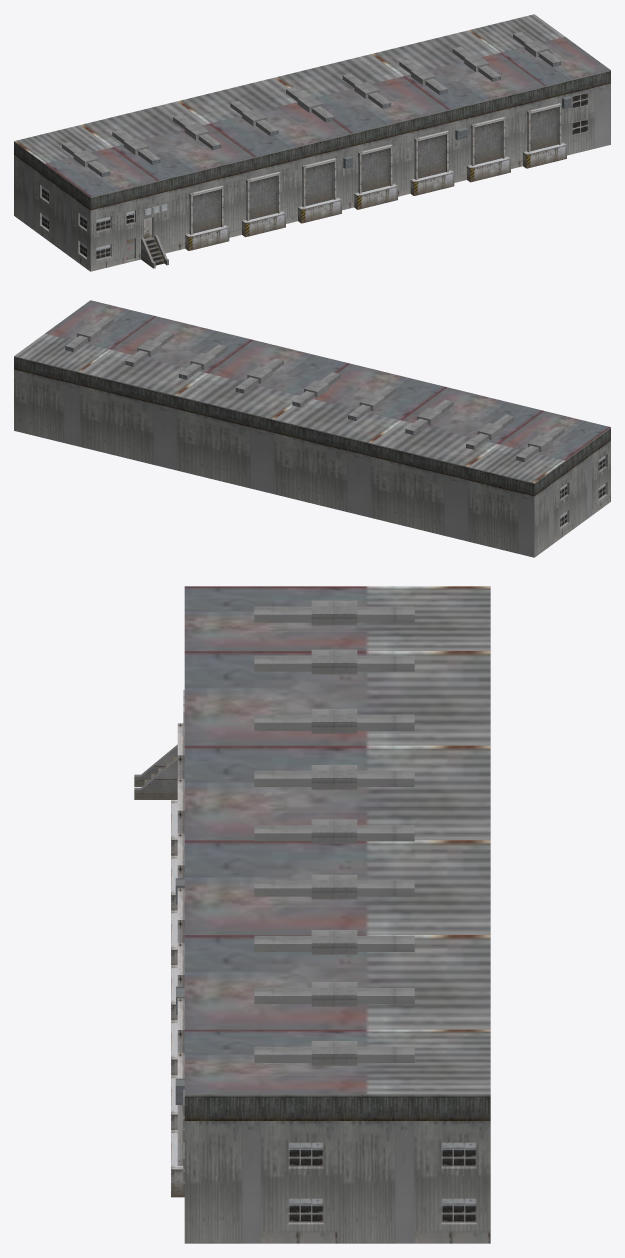
The model's file is ind-terminal.lod1.glb.
3 renders of one model, top to bottom at view 1: azimuth 30°, elevation 25°; view 2: azimuth 150°, elevation 25°; view 3: azimuth 270°, elevation 25°, orthographic. The views are drawn at different scales.
Visible parts, largest first — view 1: Industrial_LogisticTerminal_1_Industrial_Walls_FLR_1_0, Industrial_LogisticTerminal_1_Industrial_Trim_FLR_1_0; view 2: Industrial_LogisticTerminal_1_Industrial_Walls_FLR_1_0, Industrial_LogisticTerminal_1_Industrial_Trim_FLR_1_0; view 3: Industrial_LogisticTerminal_1_Industrial_Walls_FLR_1_0, Industrial_LogisticTerminal_1_Industrial_Trim_FLR_1_0.
Boxes of the visible parts, left/top/right/bottom form: Industrial_LogisticTerminal_1_Industrial_Walls_FLR_1_0: left=14, top=14, right=610, bottom=271; Industrial_LogisticTerminal_1_Industrial_Trim_FLR_1_0: left=42, top=32, right=588, bottom=268; Industrial_LogisticTerminal_1_Industrial_Walls_FLR_1_0: left=14, top=300, right=610, bottom=557; Industrial_LogisticTerminal_1_Industrial_Trim_FLR_1_0: left=65, top=316, right=605, bottom=526; Industrial_LogisticTerminal_1_Industrial_Walls_FLR_1_0: left=184, top=586, right=490, bottom=1243; Industrial_LogisticTerminal_1_Industrial_Trim_FLR_1_0: left=134, top=600, right=476, bottom=1222.
Bounding box in the file's own units: 53.43 × 7.88 × 15.85.
2 materials, 2 textured.
